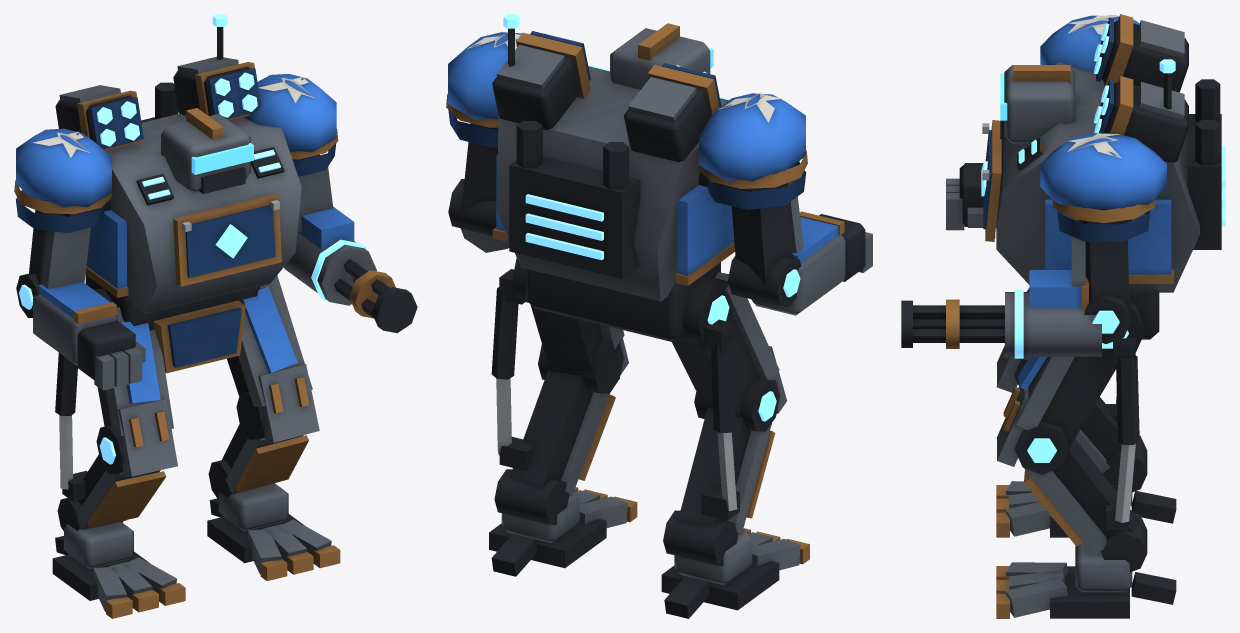
Rendered from mech_blue.glb.
3 renders of one model, left to right at view 1: azimuth 30°, elevation 25°; view 2: azimuth 150°, elevation 25°; view 3: azimuth 270°, elevation 25°, orthographic. The views are drawn at different scales.
Visible parts, largest first — view 1: mech_blue; view 2: mech_blue; view 3: mech_blue.
Boxes of the visible parts, <box> form: mech_blue: <box>14,14,417,618</box>; mech_blue: <box>446,14,872,618</box>; mech_blue: <box>901,14,1225,618</box>.
Size of the model in its own units: 0.339 by 0.518 by 0.2835.
Materials: 3 (1 with a texture image).
